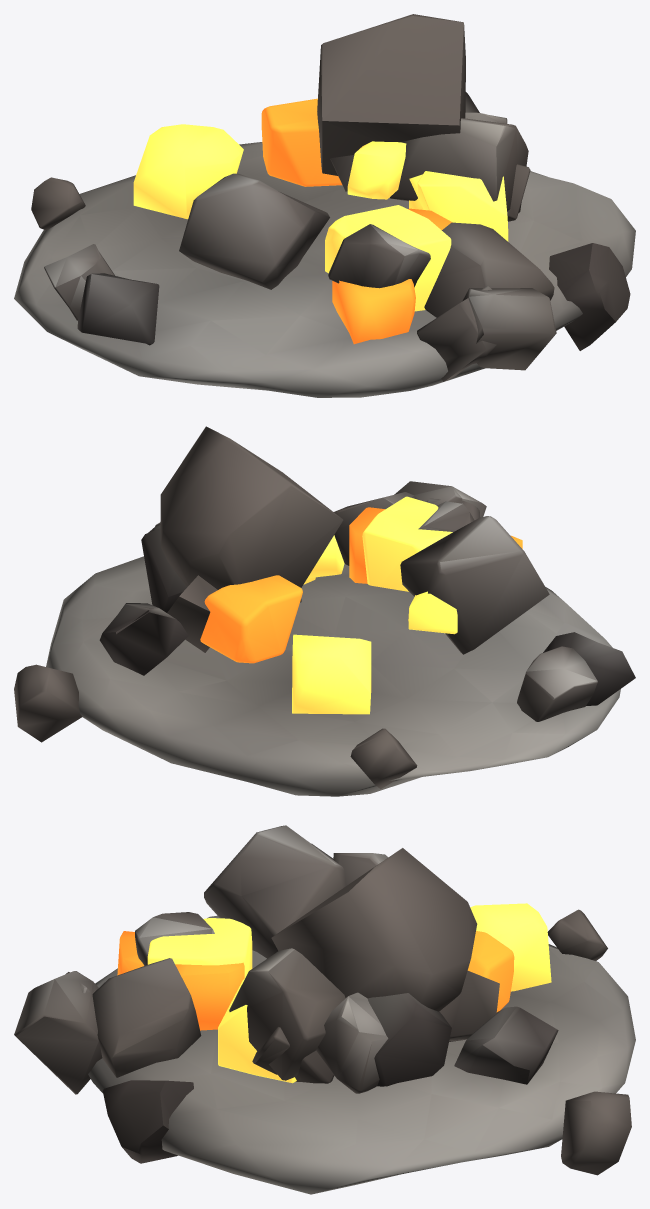
Rendered from ember_cinder_cairn_lod1.glb.
The picture shows the model from 3 angles, top to bottom: view 1: azimuth 30°, elevation 25°; view 2: azimuth 150°, elevation 25°; view 3: azimuth 270°, elevation 25°; orthographic projection. The views are drawn at different scales.
Visible parts, largest first — view 1: ember_cinder_cairn.001, glow.001; view 2: ember_cinder_cairn.001, glow.001; view 3: ember_cinder_cairn.001, glow.001.
Boxes of the visible parts, x1,y1,x2,y2 form: ember_cinder_cairn.001: (14, 14, 635, 397); glow.001: (133, 98, 508, 344); ember_cinder_cairn.001: (14, 426, 635, 796); glow.001: (200, 496, 522, 714); ember_cinder_cairn.001: (14, 825, 635, 1194); glow.001: (117, 903, 551, 1083).
Size of the model in its own units: 8.42 by 3.89 by 7.93.
